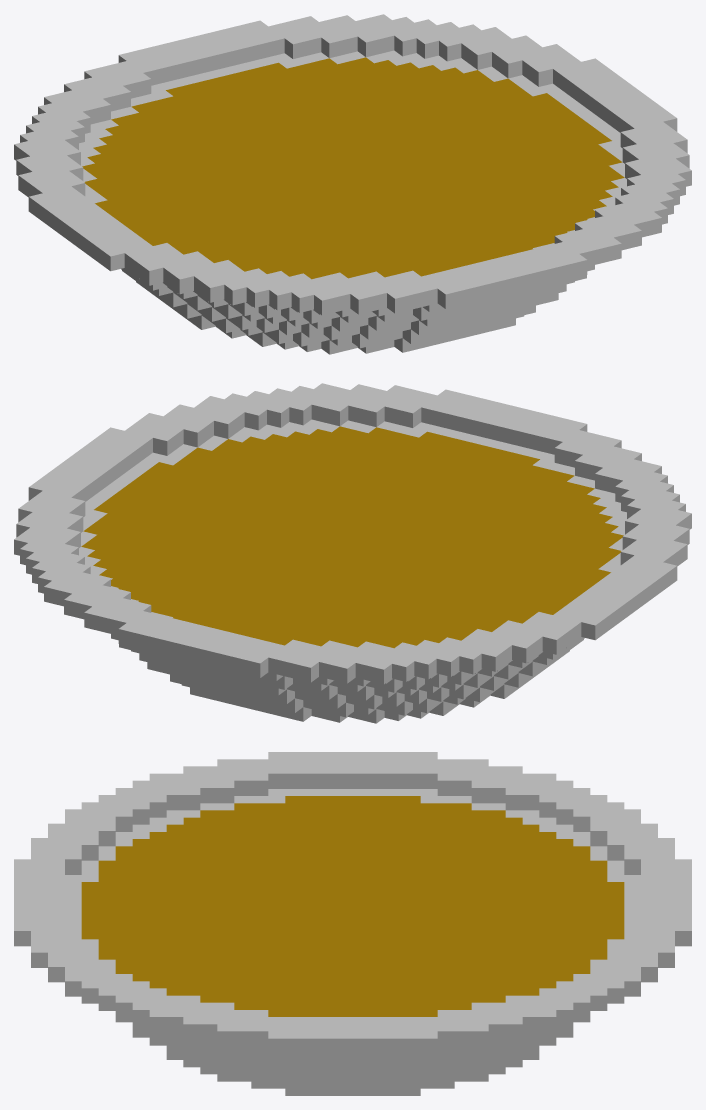
The model's file is SoupBowl.obj.
3 renders of one model, top to bottom at view 1: azimuth 30°, elevation 25°; view 2: azimuth 150°, elevation 25°; view 3: azimuth 270°, elevation 25°, orthographic. The views are drawn at different scales.
Bounding box in the file's own units: 4 × 0.7 × 4.
Materials: 1 (1 with a texture image).
